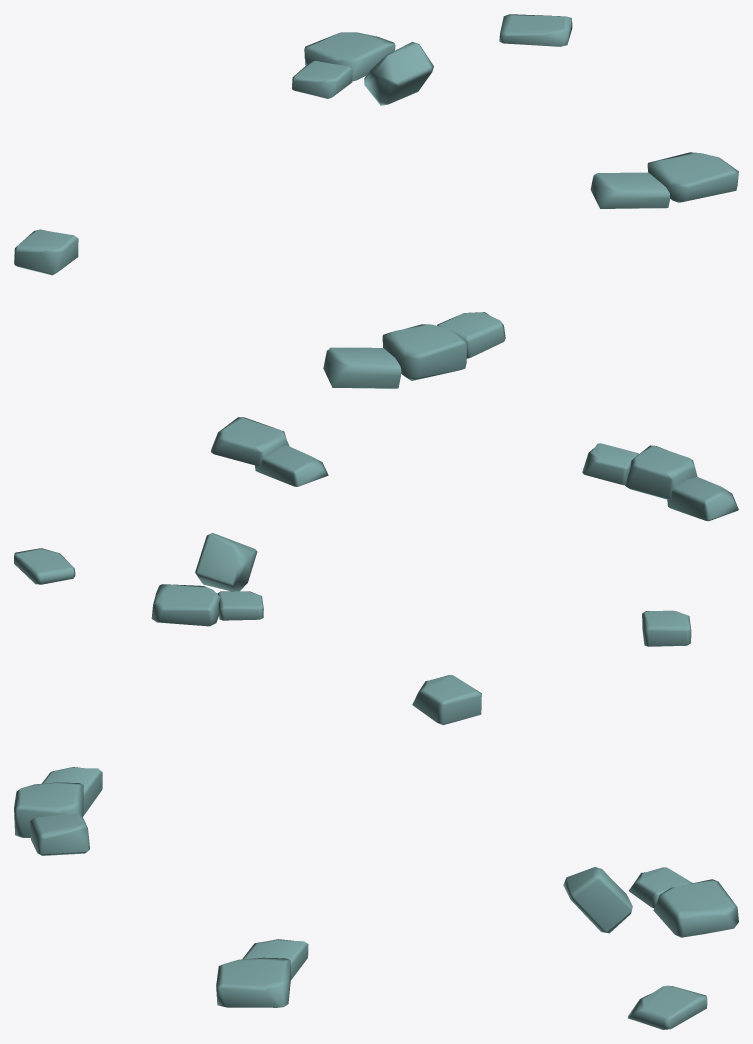
Rendered from Coffin_04D_Lod0.fbx.
The picture shows the model from 3 angles, top to bottom: view 1: azimuth 30°, elevation 25°; view 2: azimuth 150°, elevation 25°; view 3: azimuth 270°, elevation 25°; orthographic projection. The views are drawn at different scales.
Parts seen in each view (by area): view 1: Coffin_04D_Lod0; view 2: Coffin_04D_Lod0; view 3: Coffin_04D_Lod0.
Boxes of the visible parts, left/top/right/bottom form: Coffin_04D_Lod0: left=14, top=14, right=738, bottom=388; Coffin_04D_Lod0: left=14, top=417, right=738, bottom=646; Coffin_04D_Lod0: left=14, top=675, right=738, bottom=1029.
Size of the model in its own units: 283 by 34.55 by 254.
